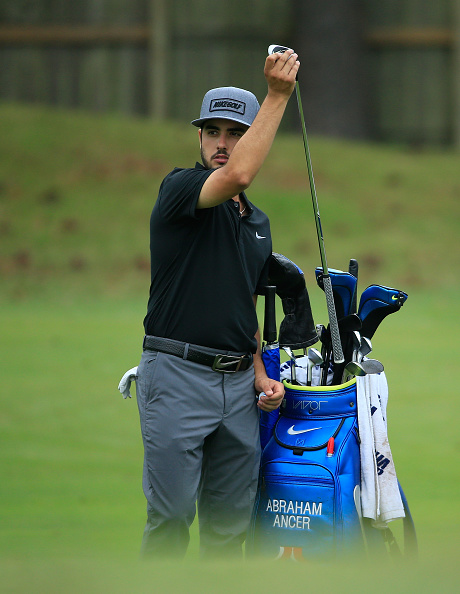em pe: (120, 61, 324, 557)
